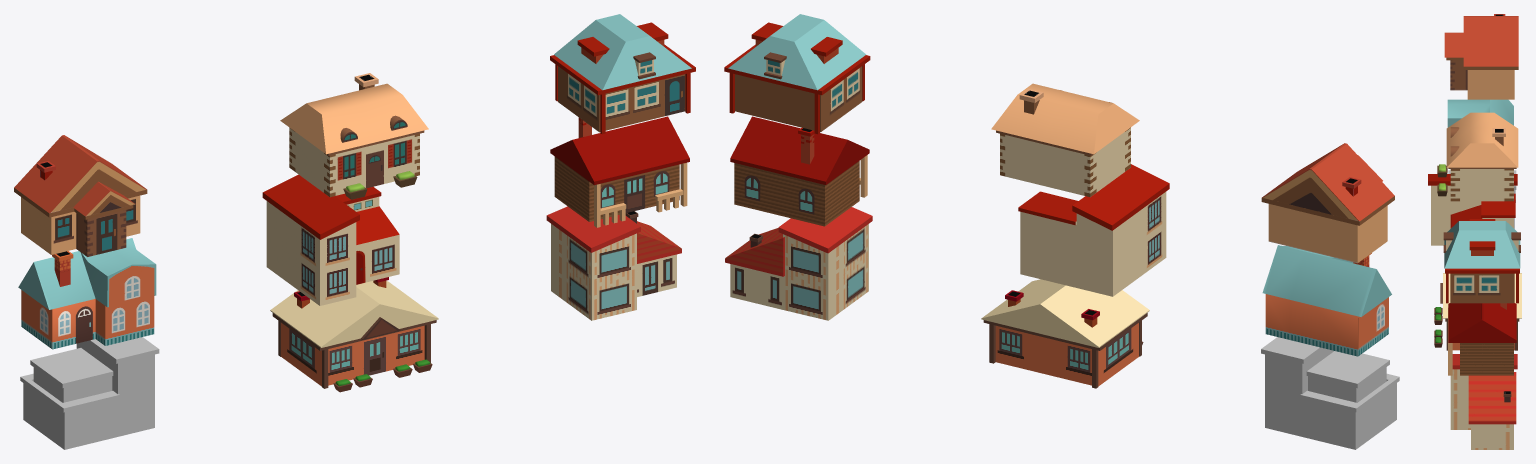
File: Cartoon Building Collection.fbx
3 renders of one model, left to right at view 1: azimuth 30°, elevation 25°; view 2: azimuth 150°, elevation 25°; view 3: azimuth 270°, elevation 25°, orthographic. The views are drawn at different scales.
Parts seen in each view (by area): view 1: BuildingE, BuildingH, BuildingB, BuildingC, BuildingG, BuildingD, BuildingF, BuildingA, BuildingI; view 2: BuildingE, BuildingH, BuildingC, BuildingB, BuildingG, BuildingI, BuildingF, BuildingD, BuildingA; view 3: BuildingB, BuildingC, BuildingA, BuildingI, BuildingF, BuildingE, BuildingD, BuildingH.
Part boxes in pixels (x1,y1,x2,y2): BuildingE: (262, 174, 399, 305); BuildingH: (270, 277, 438, 392); BuildingB: (280, 73, 428, 199); BuildingC: (550, 14, 695, 134); BuildingG: (20, 337, 159, 449); BuildingD: (18, 238, 156, 349); BuildingF: (550, 116, 689, 227); BuildingA: (14, 135, 147, 256); BuildingI: (546, 206, 681, 320); BuildingE: (1018, 164, 1169, 296); BuildingH: (981, 279, 1149, 388); BuildingC: (724, 14, 870, 134); BuildingB: (991, 83, 1139, 197); BuildingG: (1261, 337, 1399, 449); BuildingI: (725, 207, 872, 320); BuildingF: (730, 116, 869, 226); BuildingD: (1262, 245, 1391, 356); BuildingA: (1261, 143, 1394, 263); BuildingB: (1437, 112, 1518, 201); BuildingC: (1443, 219, 1520, 303); BuildingA: (1444, 14, 1518, 99); BuildingI: (1450, 354, 1517, 449); BuildingF: (1448, 303, 1516, 375); BuildingE: (1428, 174, 1517, 245); BuildingD: (1447, 99, 1513, 127); BuildingH: (1434, 273, 1521, 350).
Bounding box in the file's own units: 356 × 145 × 58.34.
